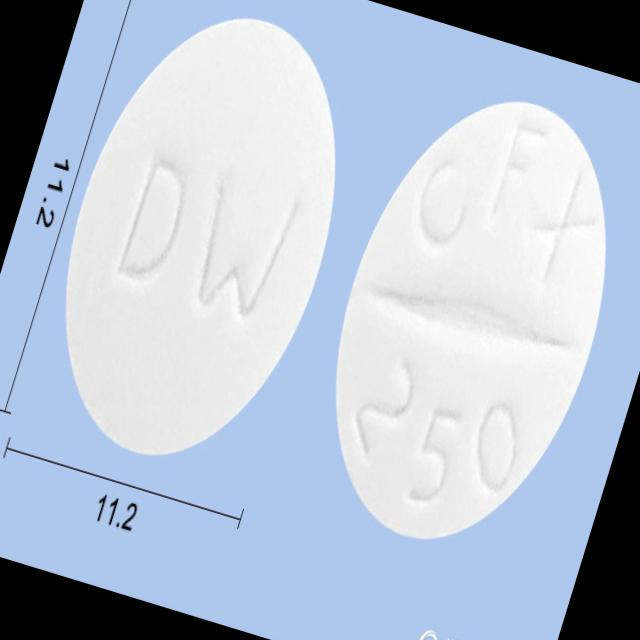Ciplus: (10, 0, 391, 498), (285, 60, 640, 575)
